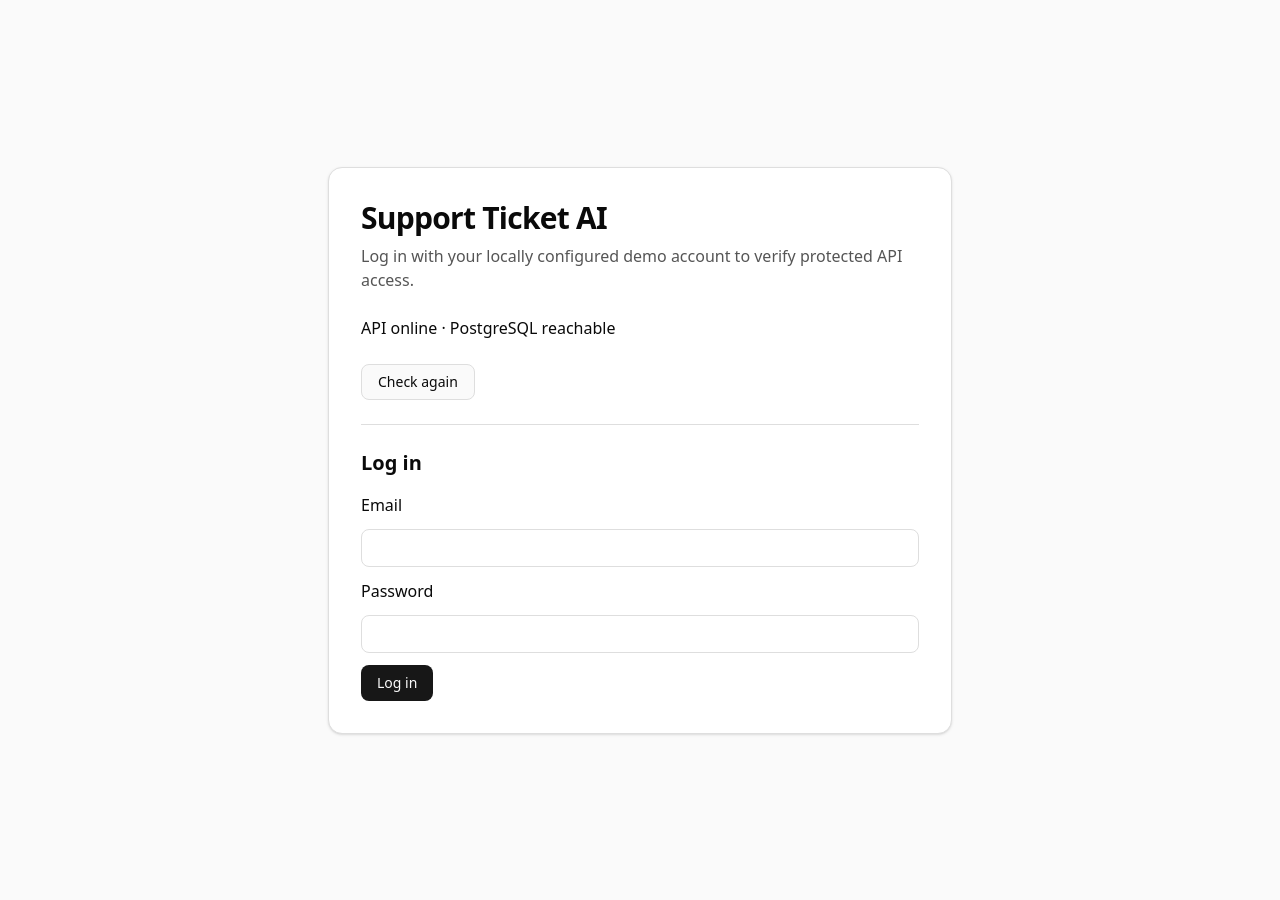
Scenario: persistent session › retries a transient proactive failure before expiry and retains the refreshed identity
Type "demo@example.test" into the field labelled "Email". click: (640, 548)
box: top-left (361, 528), bottom-right (919, 566)
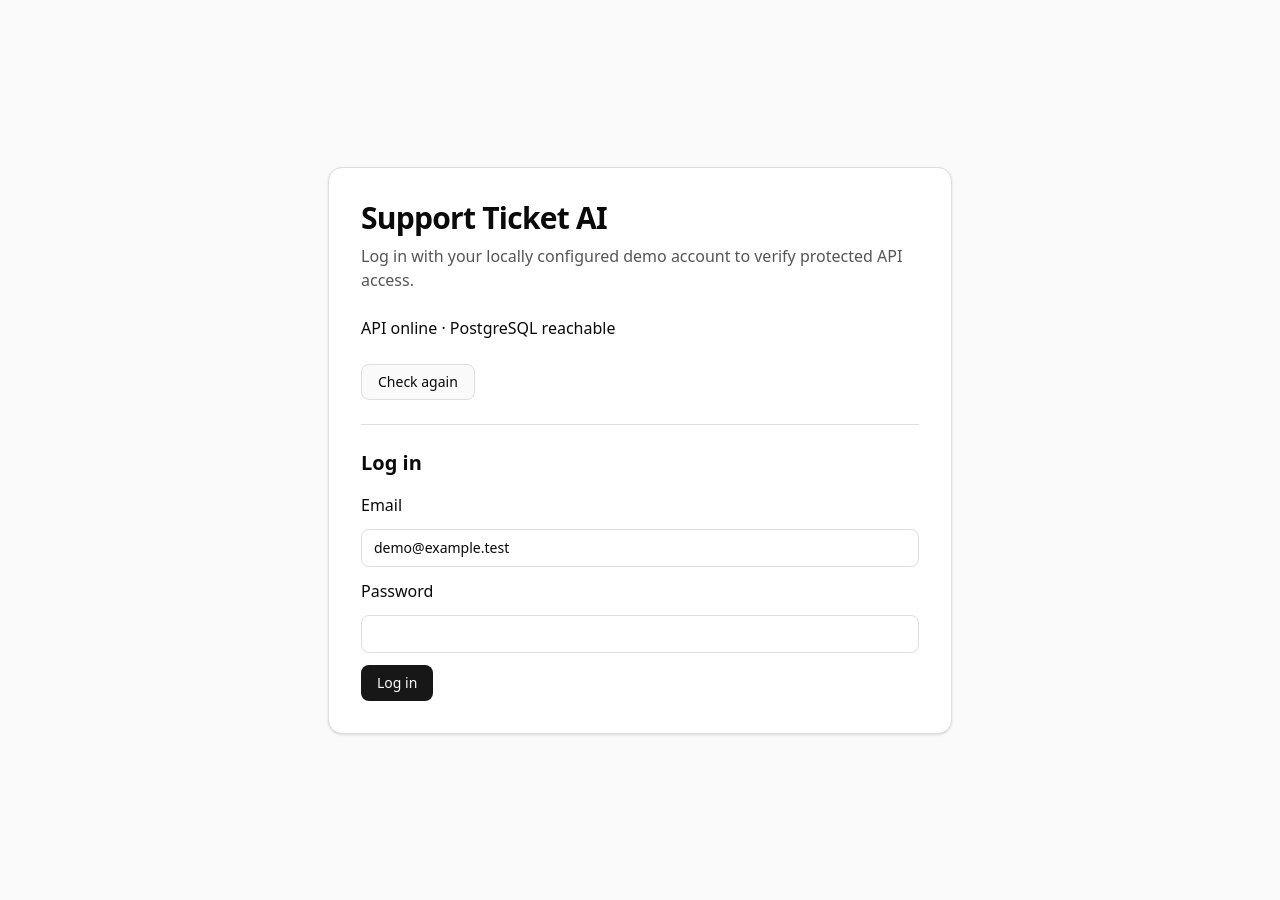
Type "synthetic-password" into the password field labelled "Password". click: (640, 634)
box: top-left (361, 614), bottom-right (919, 652)
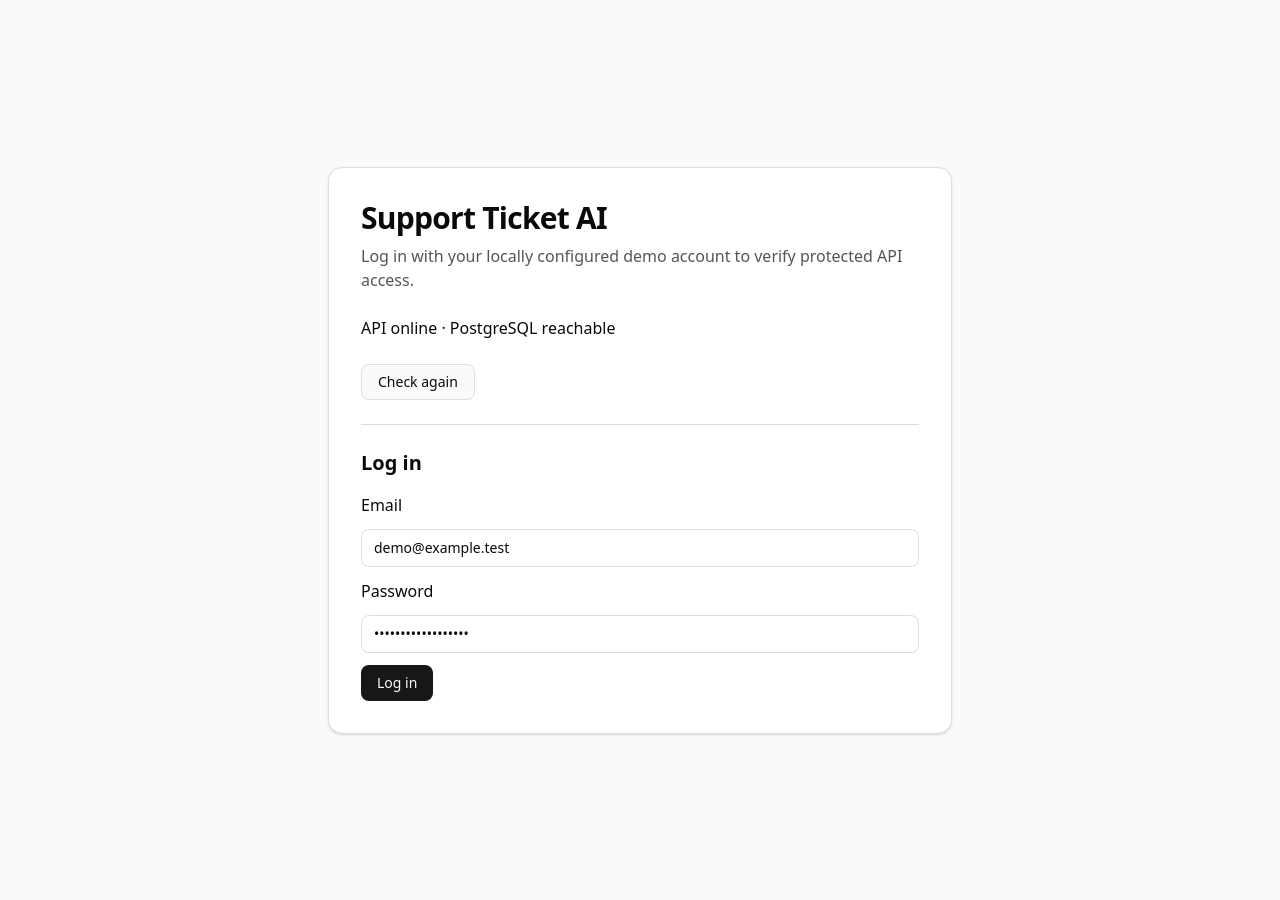
Click the button "Log in". click: (397, 682)
box: top-left (361, 664), bottom-right (433, 700)
Wait 900001 ms
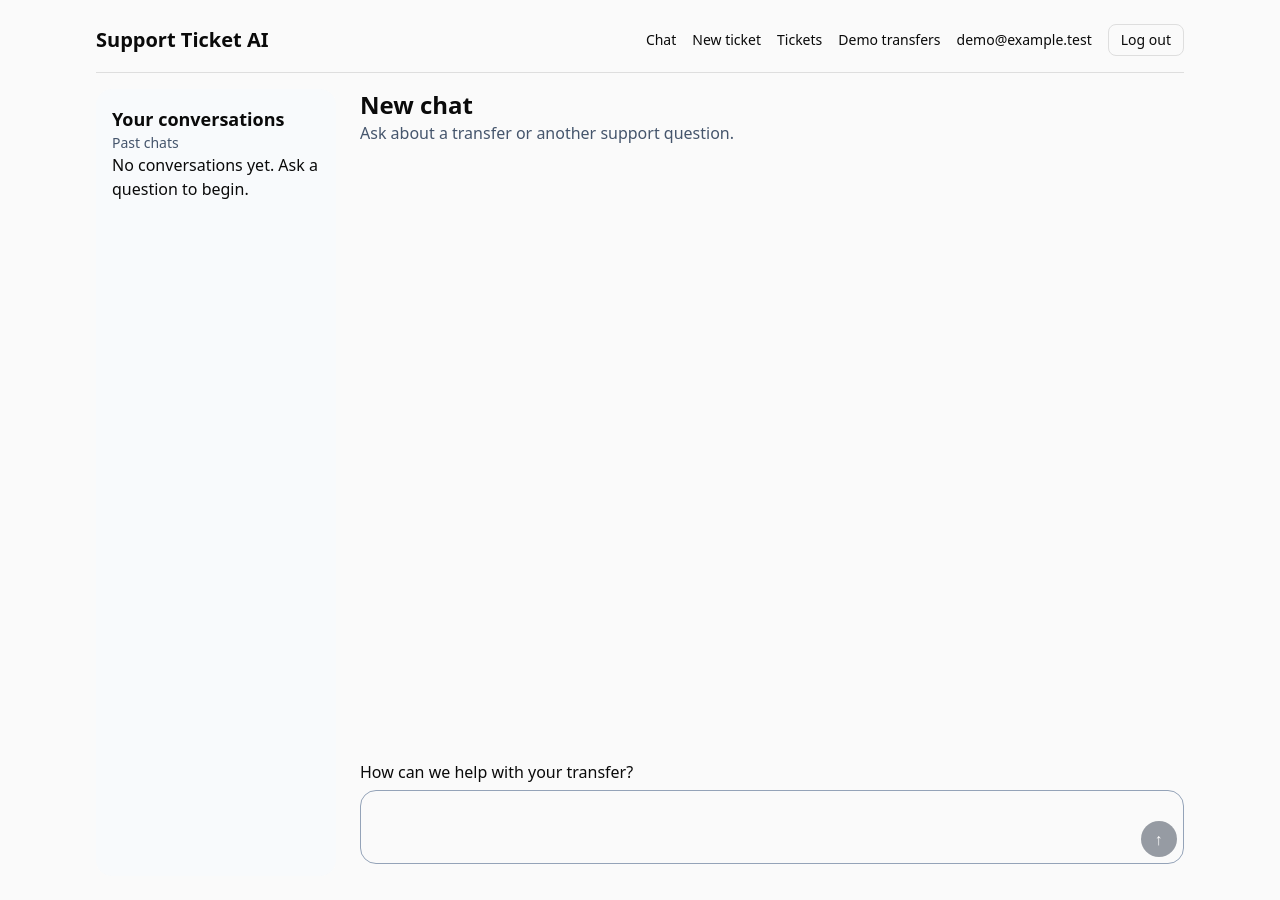
Expected: the text "demo@example.test" is shown, top-left (957, 30), bottom-right (1092, 50)
